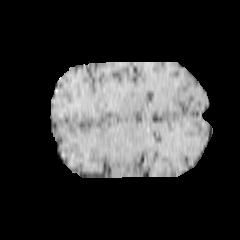glioma: (75, 110, 157, 163)
